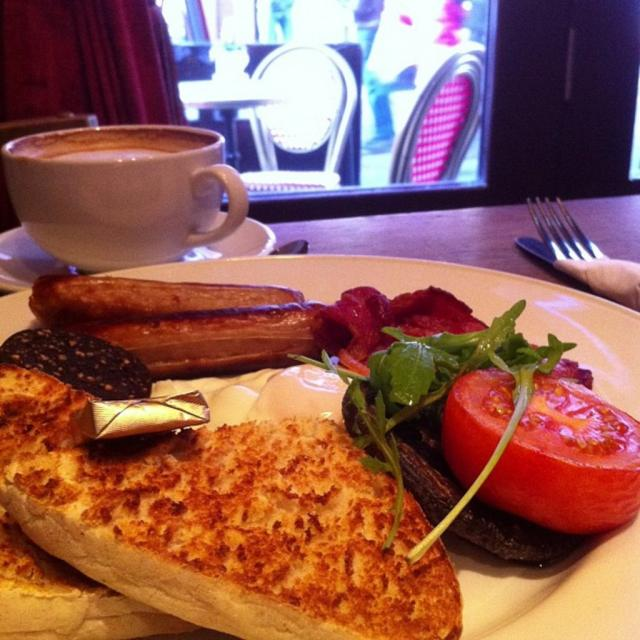Coffee: (17, 127, 205, 162)
Tea: (8, 124, 218, 165)
